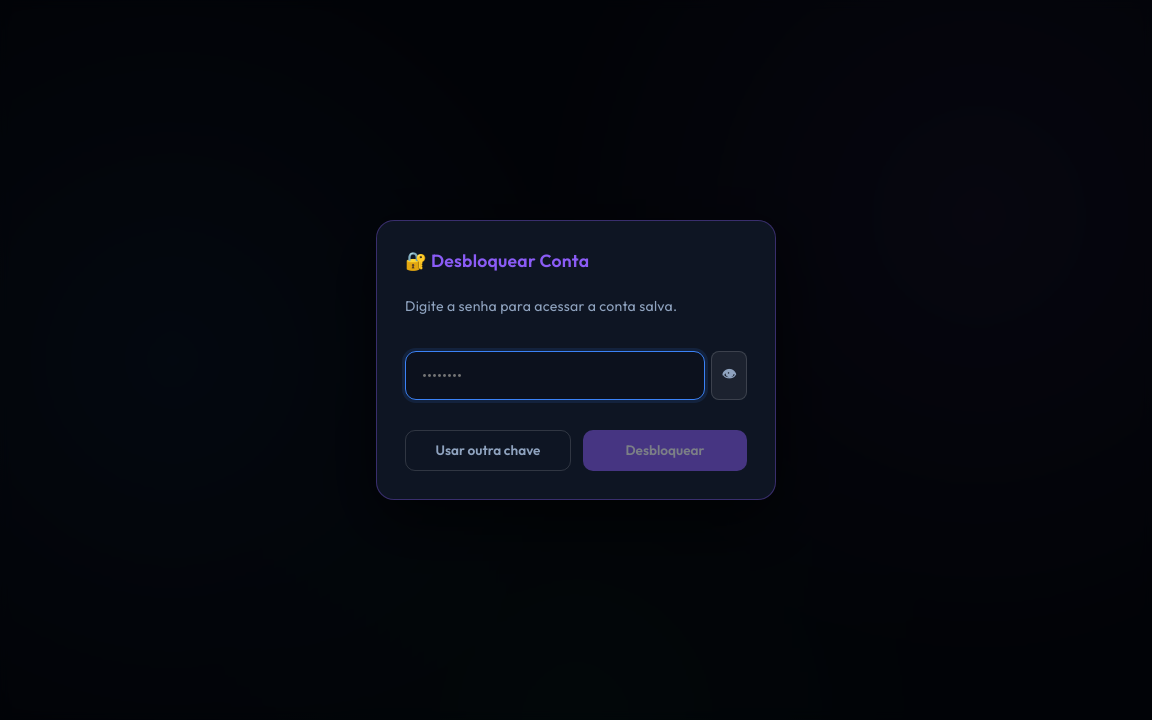
Test: UnlockKeyModal — desbloqueio › deve habilitar o botão quando senha é digitada
The width and height of the screenshot is (1152, 720).
Type "x" into the password field with placeholder "••••••••" at (555, 376), box [405,352,705,400]
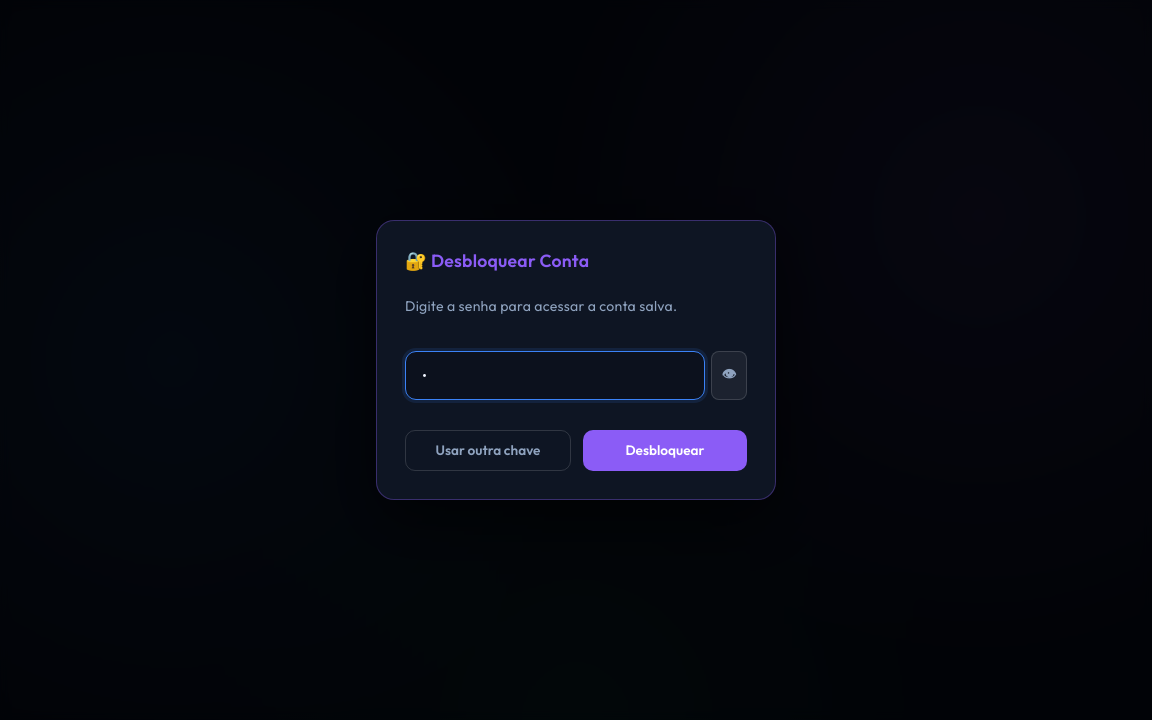
Expected: the button "Desbloquear" is enabled, [583,430,747,471]
